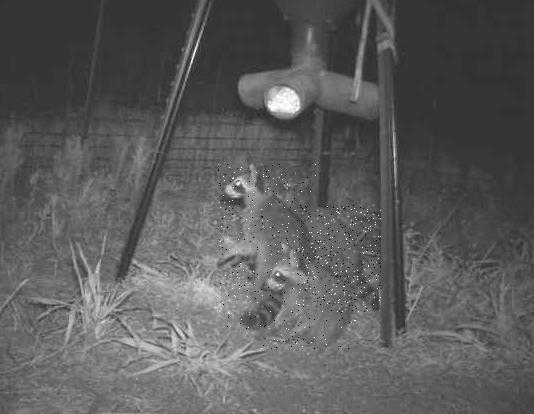Raccoon: (218, 164, 316, 331), (260, 245, 358, 351), (296, 205, 381, 314)
